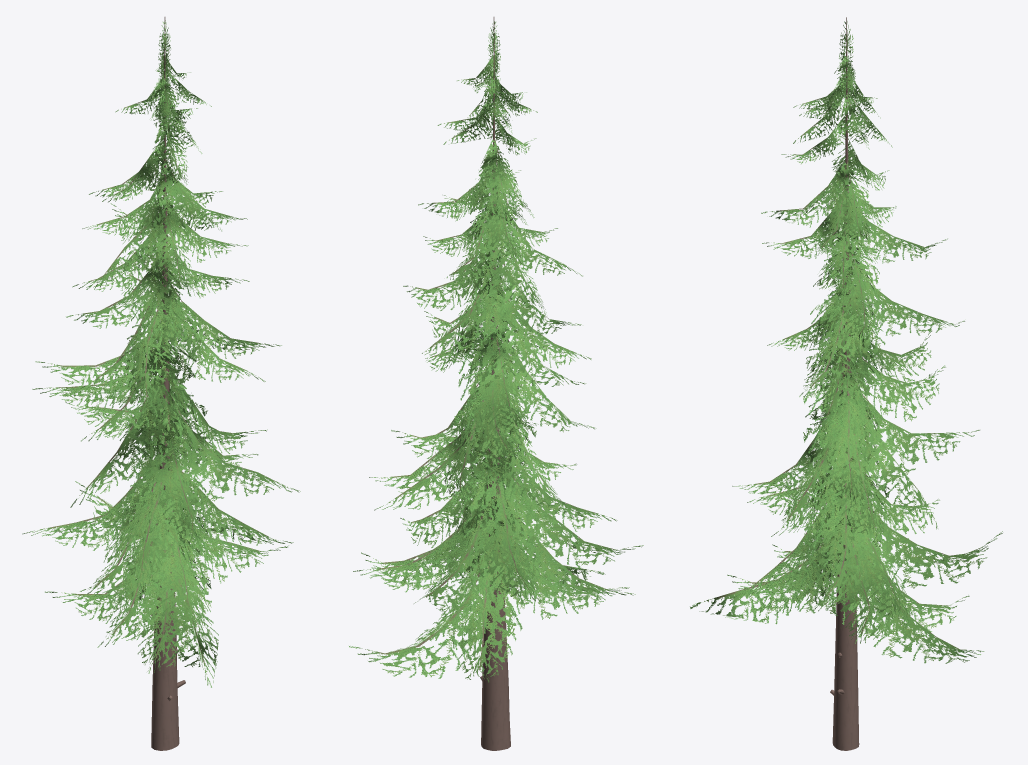
File: tree_Pine_L1_LOD0.fbx
3 views of the same model, side by side, from view 1: azimuth 30°, elevation 25°; view 2: azimuth 150°, elevation 25°; view 3: azimuth 270°, elevation 25° (orthographic).
Visible parts, largest first — view 1: Pine_L1_LOD0; view 2: Pine_L1_LOD0; view 3: Pine_L1_LOD0.
Boxes of the visible parts, box(x1,y1,x2,y2) form: Pine_L1_LOD0: box(22, 17, 300, 750); Pine_L1_LOD0: box(349, 17, 643, 750); Pine_L1_LOD0: box(690, 17, 1002, 750).
Bounding box in the file's own units: 907 × 2391 × 989.
